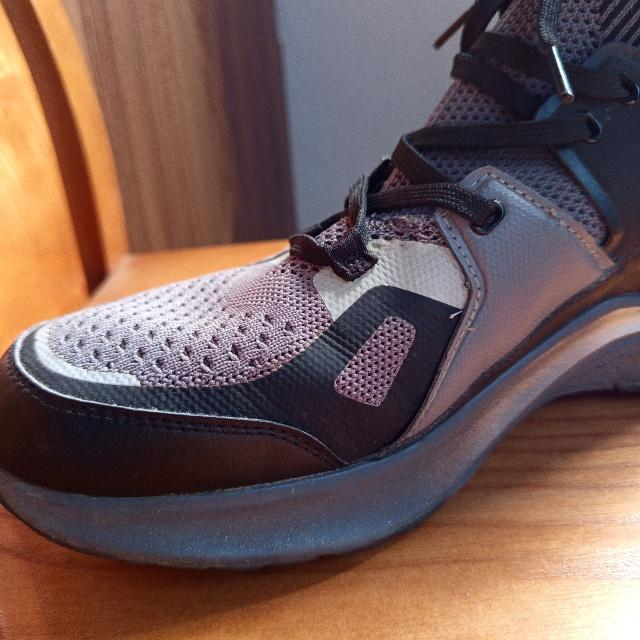broken: (546, 204, 567, 230)
